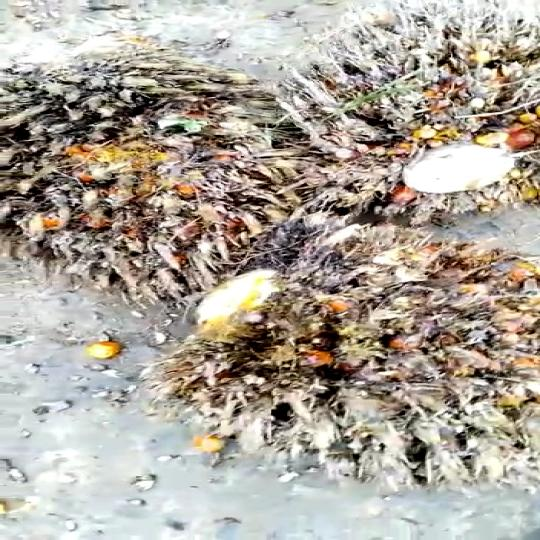terlalu masak: (158, 225, 540, 494), (0, 48, 318, 306), (270, 5, 540, 217)
